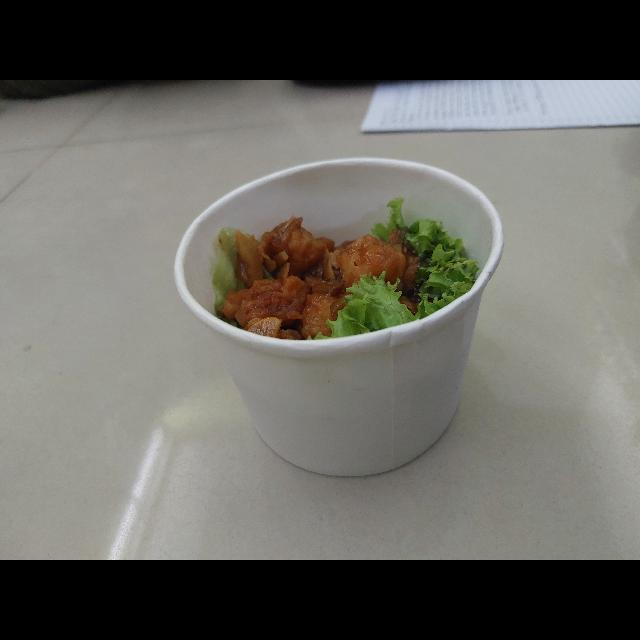rice-bowl: (164, 147, 514, 491)
